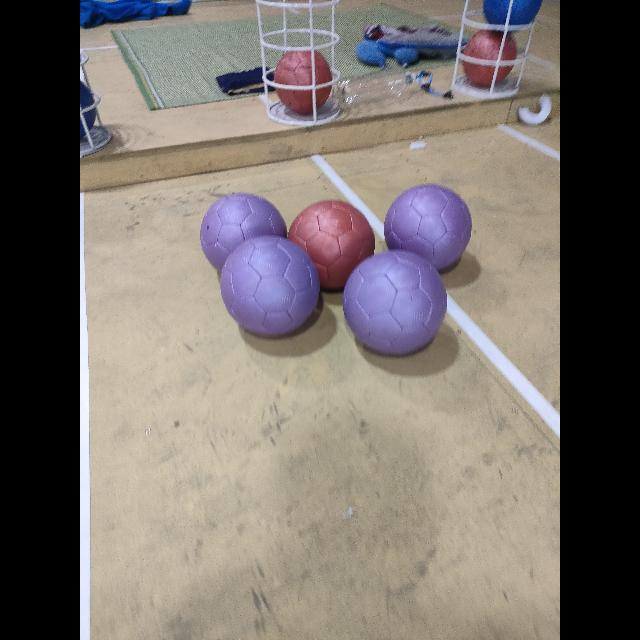B: (483, 1, 543, 32), (80, 80, 96, 140)
P: (344, 250, 446, 354), (221, 235, 319, 335), (198, 188, 288, 282), (383, 181, 472, 273), (274, 48, 332, 114), (462, 28, 516, 86)
R: (288, 200, 374, 288)
S: (246, 0, 346, 128), (457, 0, 533, 104), (80, 38, 112, 162)
